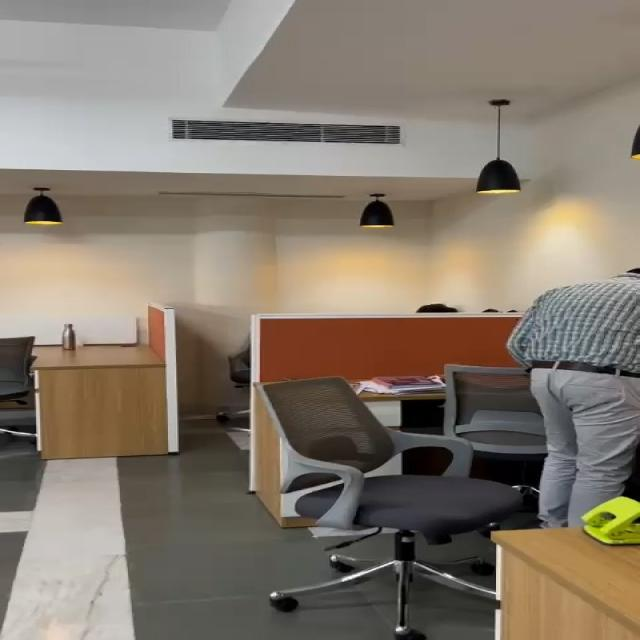floor: (0, 471, 272, 640)
furniture: (254, 358, 496, 635), (430, 332, 564, 513), (0, 318, 91, 450)
moving_object: (513, 276, 640, 517)
wall: (0, 0, 640, 280)
